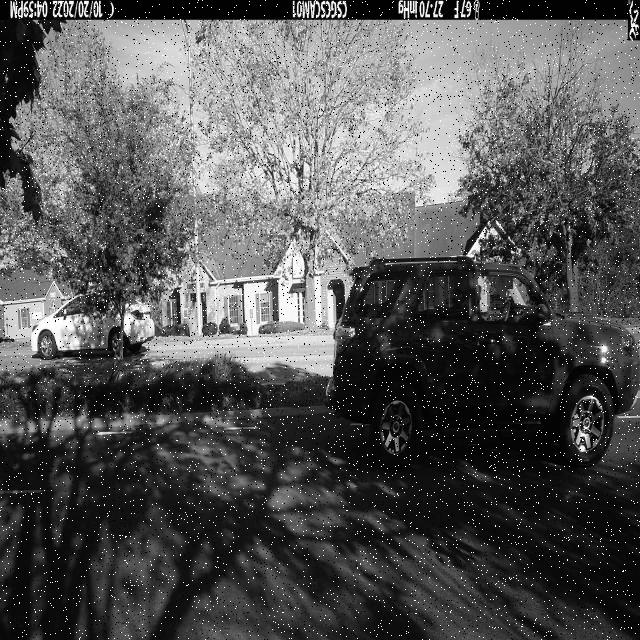SUV: (326, 256, 640, 469)
